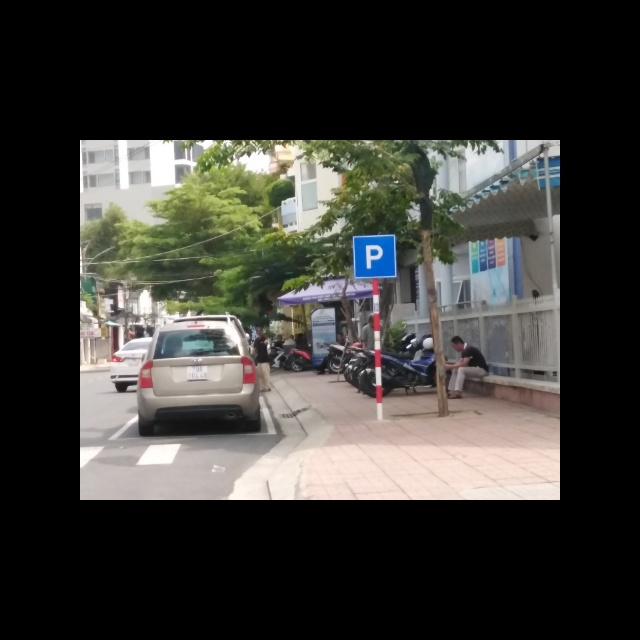Nơi đỗ xe: (352, 234, 398, 279)
